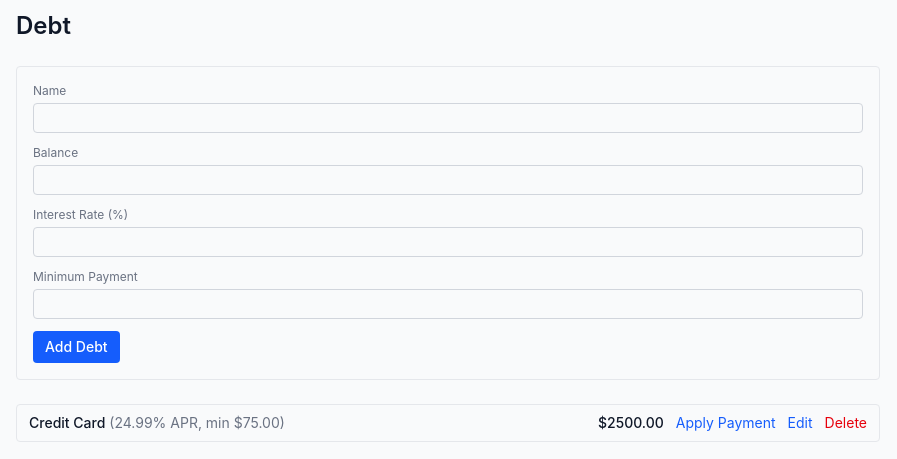
Test case: DebtPage › deletes a debt after confirmation and refetches the list
The image size is (897, 459).
Expected: the text "Credit Card" is shown, [29,414,105,431]
Click the button "Delete": [846, 423] box [825,413,867,433]
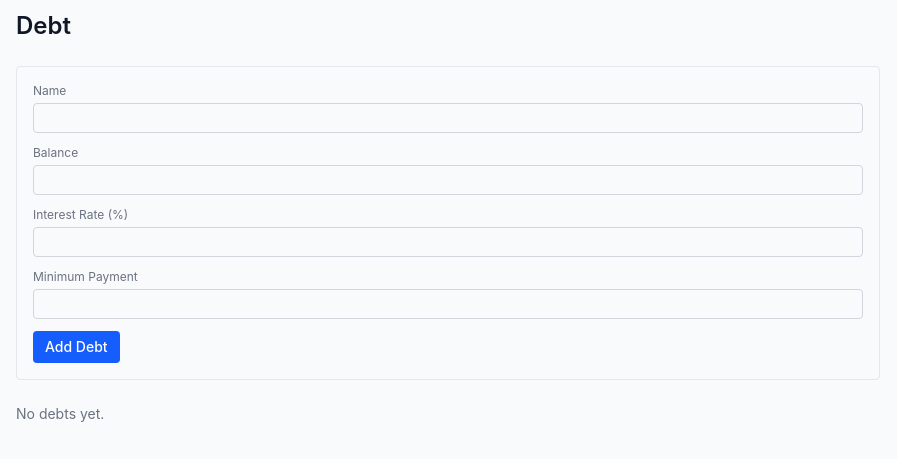
Expected: the text "No debts yet." is shown, [16,405,104,422]
